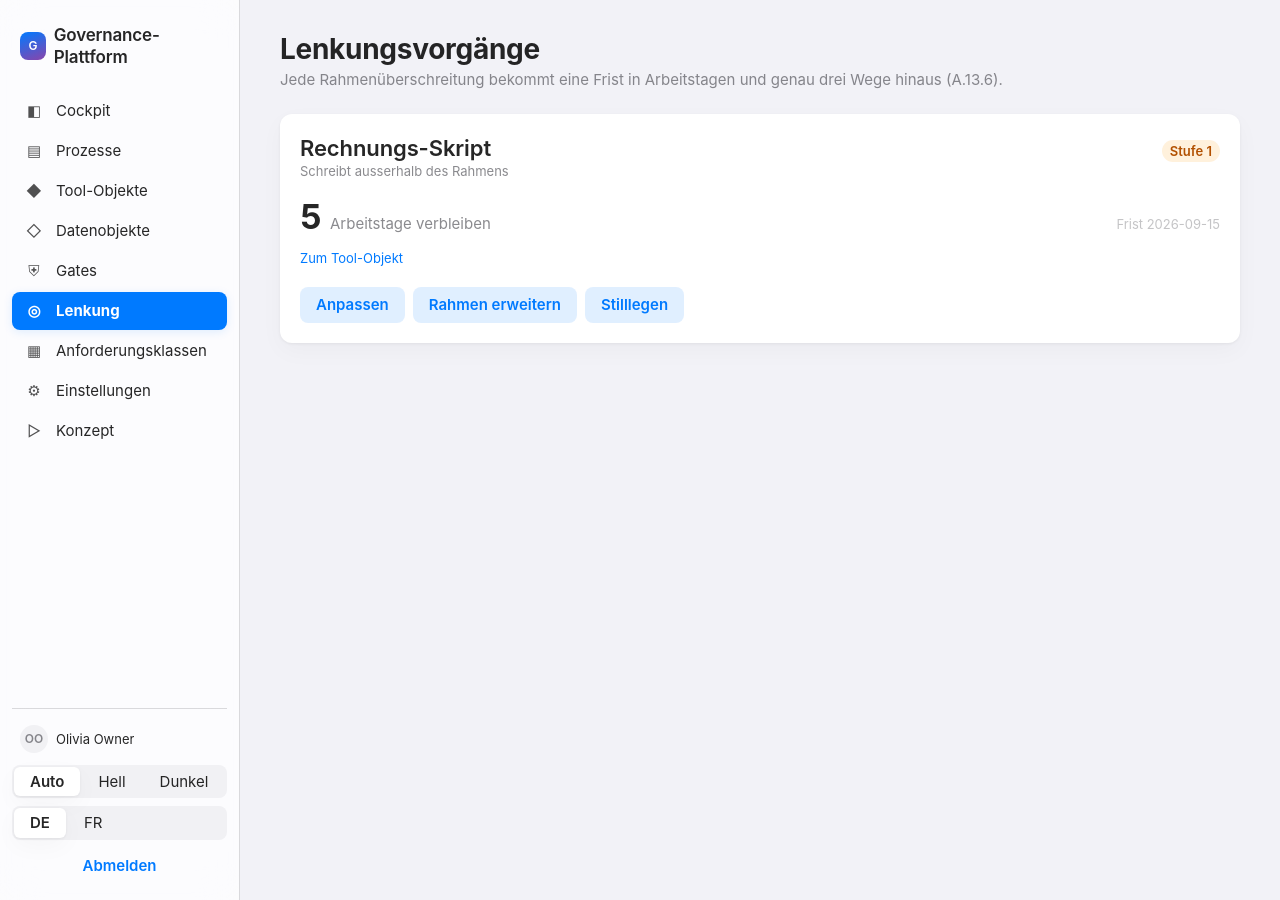
Test case: Lenkungsvorgaenge › sagt bei Rahmen erweitern, wenn die neue Bewertung fehlt
Click the button with test id "rahmen_erweitern-lv-1". click: click(495, 305)
box: left=413, top=287, right=577, bottom=323
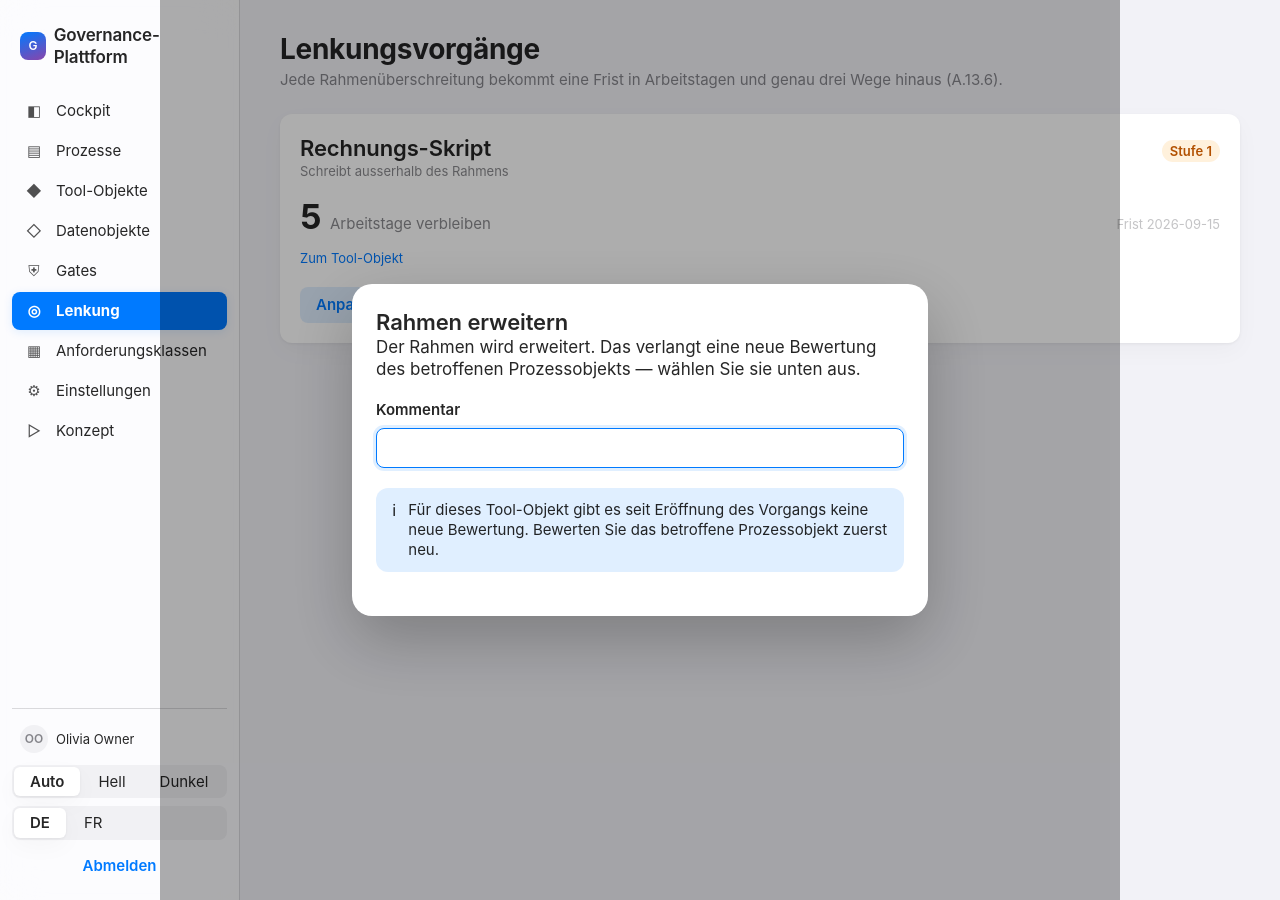
Expected: the text "keine neue Bewertung" is shown, left=408, top=500, right=887, bottom=559
